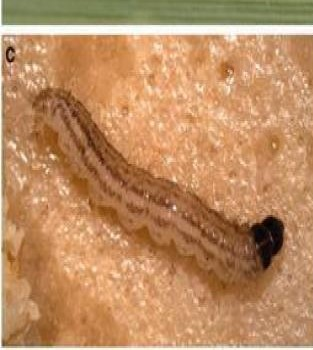yellow-stem-borer-larva: (24, 84, 298, 298)
